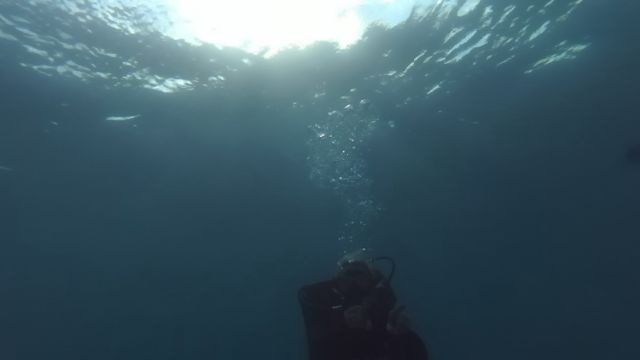Diver: (284, 248, 443, 353)
